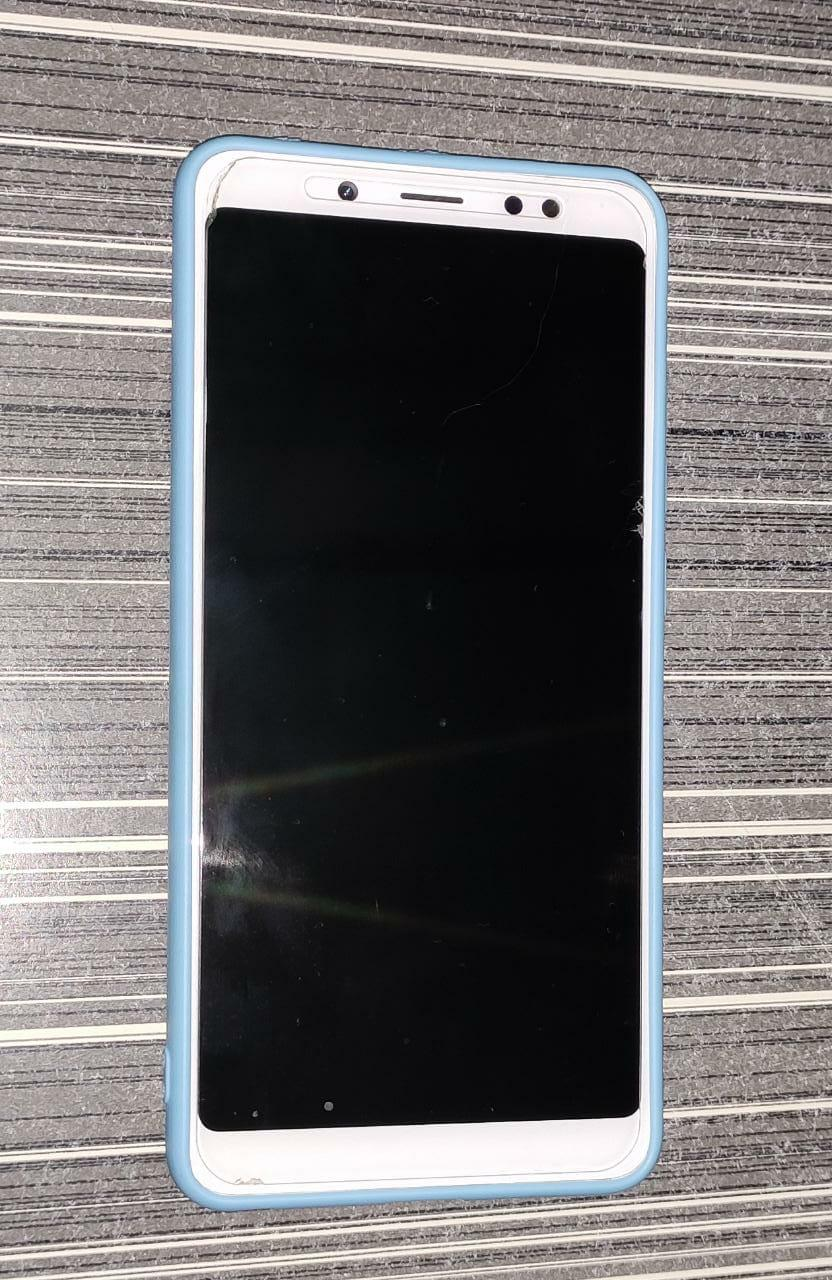Phone: (134, 108, 697, 1239)
